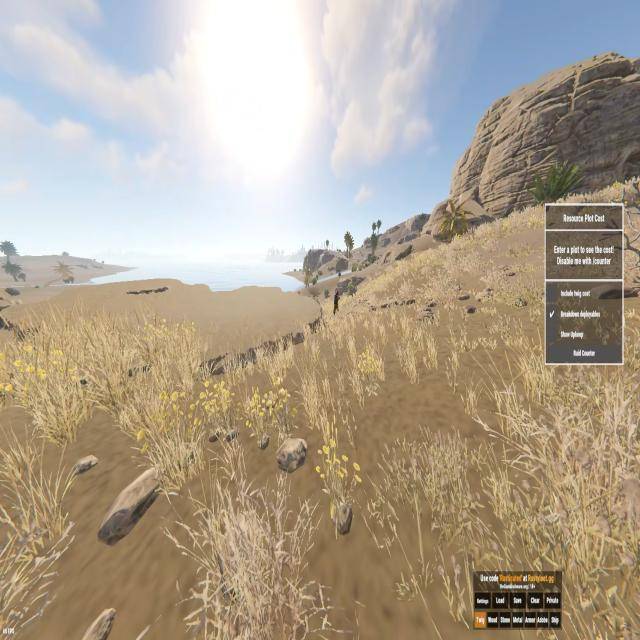Player: (333, 290, 340, 316)
